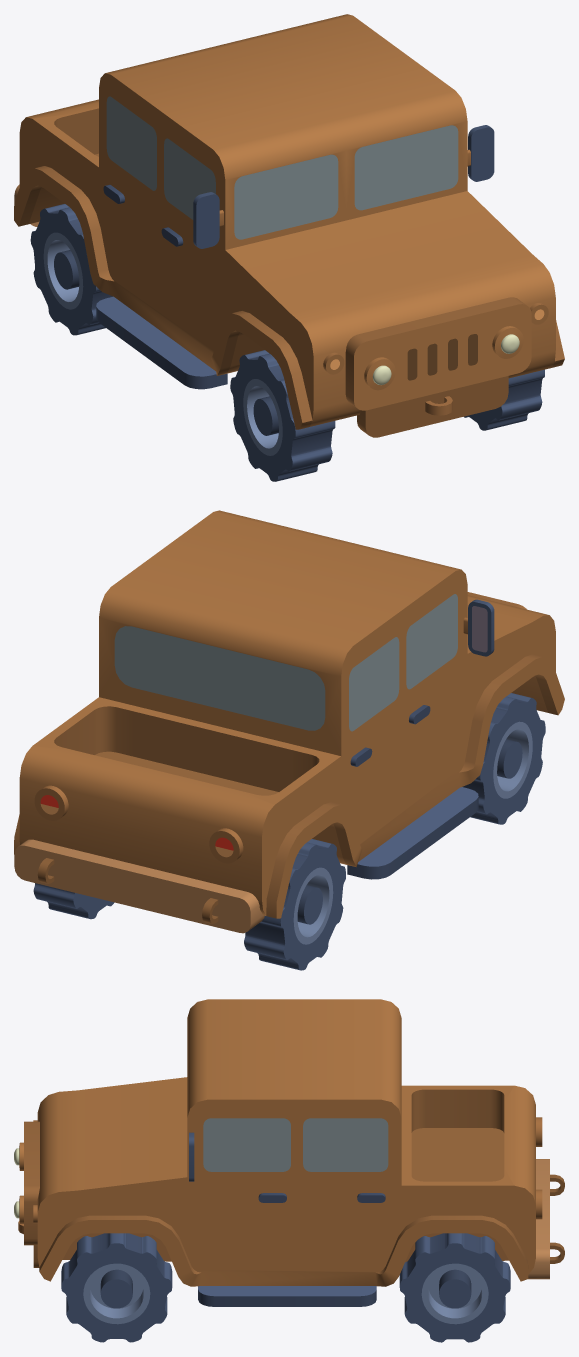
File: Humvee.fbx
3 views of the same model, one above another, from view 1: azimuth 30°, elevation 25°; view 2: azimuth 150°, elevation 25°; view 3: azimuth 270°, elevation 25° (orthographic). The views are drawn at different scales.
Visible parts, largest first — view 1: Humvee.001, Tractor Wheel.006, Tractor Wheel.004, Tractor Wheel.005; view 2: Humvee.001, Tractor Wheel.004, Tractor Wheel.006; view 3: Humvee.001, Tractor Wheel.005, Tractor Wheel.004.
Boxes of the visible parts, box(x1,y1,x2,y2) form: Humvee.001: box(14, 14, 564, 437); Tractor Wheel.006: box(230, 350, 335, 481); Tractor Wheel.004: box(30, 204, 112, 335); Tractor Wheel.005: box(464, 369, 544, 430); Humvee.001: box(14, 510, 564, 933); Tractor Wheel.004: box(33, 839, 345, 970); Tractor Wheel.006: box(462, 693, 545, 824); Humvee.001: box(14, 999, 564, 1306); Tractor Wheel.005: box(61, 1233, 172, 1342); Tractor Wheel.004: box(399, 1233, 510, 1342).
Size of the model in its own units: 2.72 by 2.49 by 5.14.
